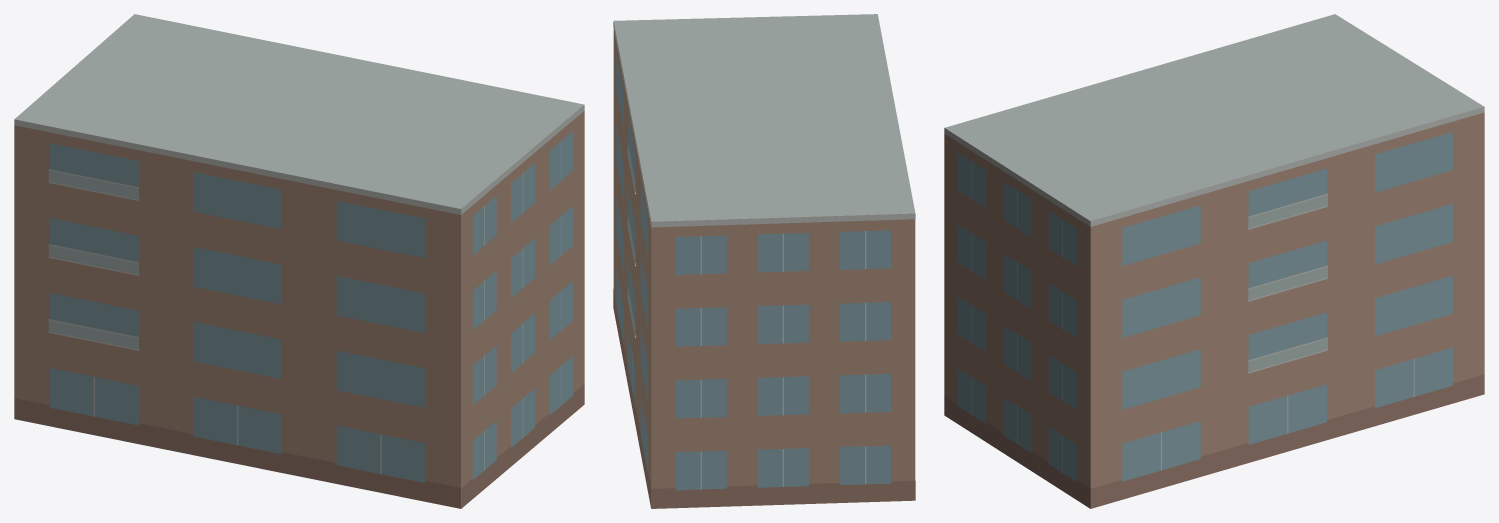
The model's file is survey-upis-32805773.glb.
3 views of the same model, side by side, from view 1: azimuth 30°, elevation 25°; view 2: azimuth 150°, elevation 25°; view 3: azimuth 270°, elevation 25° (orthographic). The views are drawn at different scales.
Parts seen in each view (by area): view 1: survey-upis-32805773.tmp; view 2: survey-upis-32805773.tmp; view 3: survey-upis-32805773.tmp.
Part boxes in pixels (x1,y1,x2,y2): survey-upis-32805773.tmp: [14, 14, 584, 508]; survey-upis-32805773.tmp: [613, 14, 915, 508]; survey-upis-32805773.tmp: [944, 14, 1484, 508].
Size of the model in its own units: 19.18 by 12.4 by 21.12.
